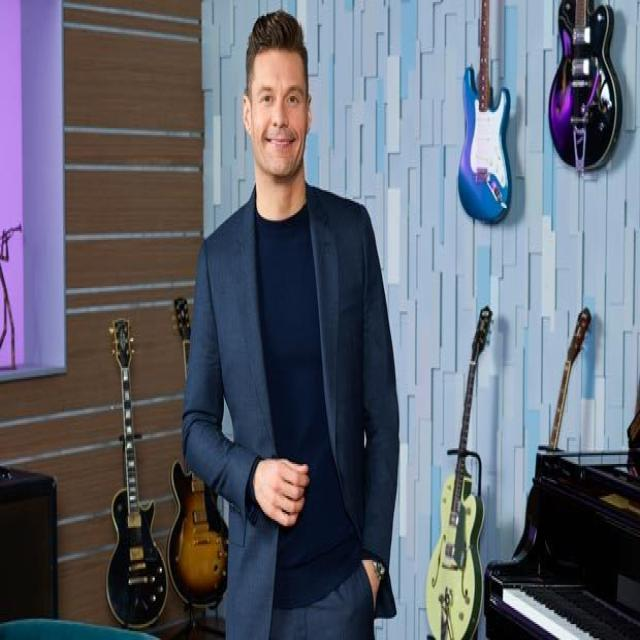human: (178, 10, 401, 640)
